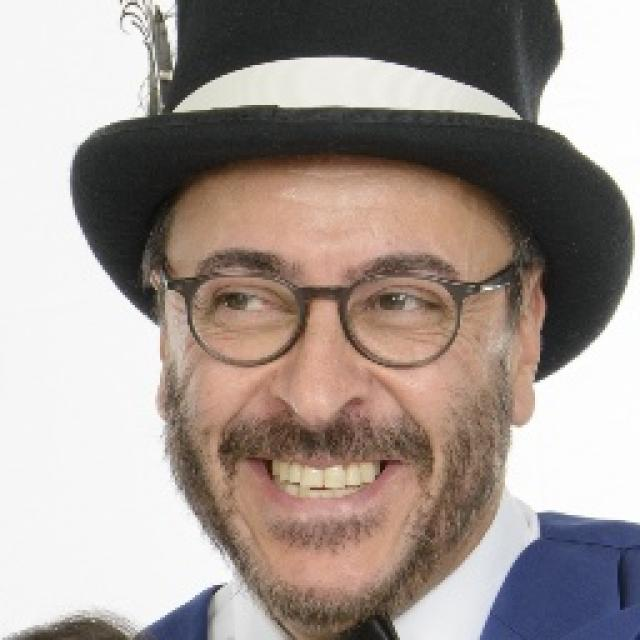earlobe: (504, 389, 542, 431), (153, 382, 173, 425)
eye: (363, 283, 440, 322), (208, 285, 284, 322)
nose: (264, 395, 369, 439)
wholeear: (508, 258, 544, 431), (143, 267, 177, 427)
